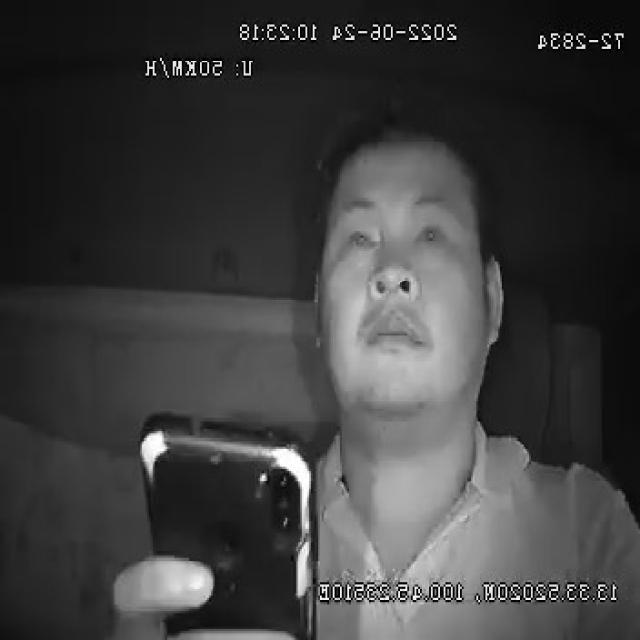phone: (133, 407, 321, 640)
